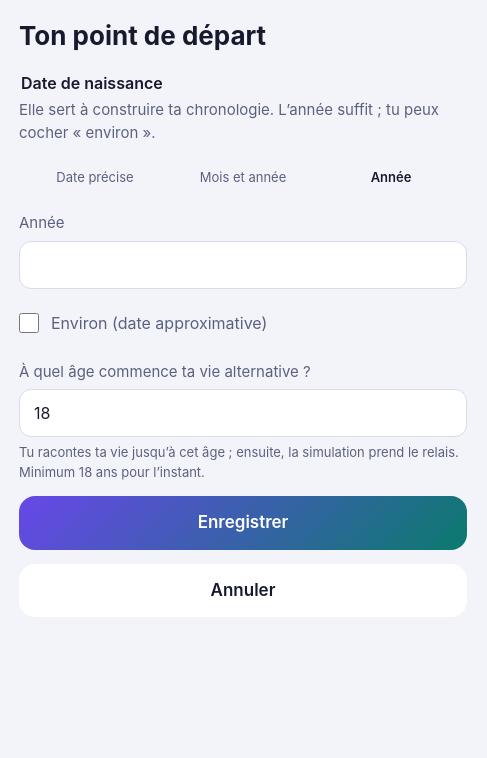
dossier de vie : parcours dans l’interface › accepte « je ne sais pas » et « je préfère ne pas répondre »
Type "2000" into the field labelled "Année". click: (243, 264)
box: [19,240,467,288]
Replace the text in the field labelled "À quel âge commence" with "20". click: (243, 413)
box: [19,389,467,437]
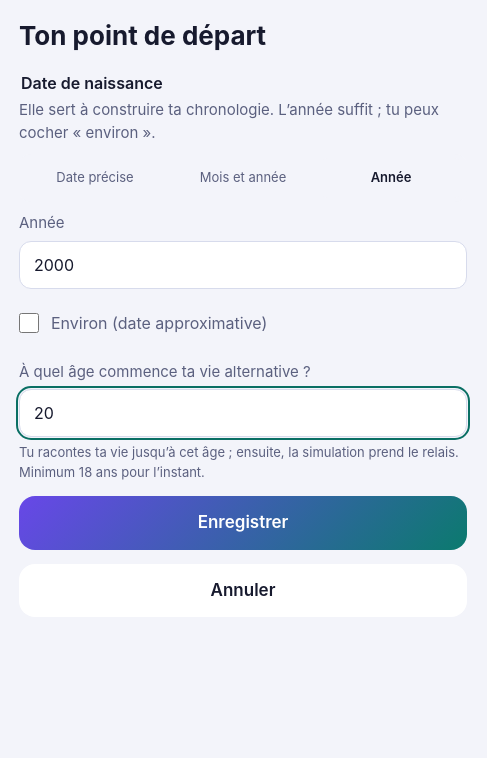
Click the button "Enregistrer". click: (243, 523)
box: [19,496,467,550]
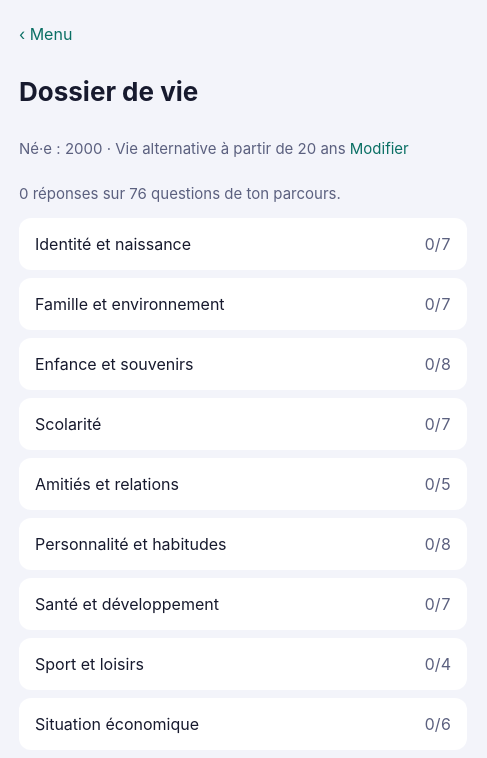
Click the button "Identité et naissance 0/7". click: (113, 244)
box: [19,218,467,270]
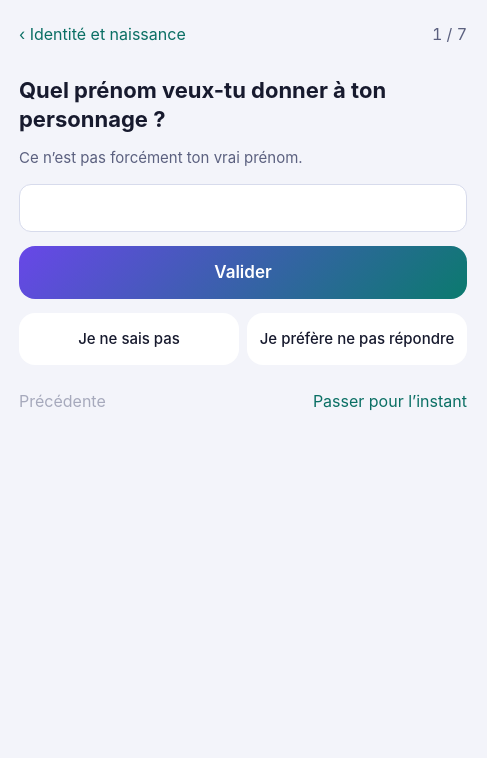
Click the button "Je préfère ne pas répondre". click: (357, 339)
box: [247,313,467,365]
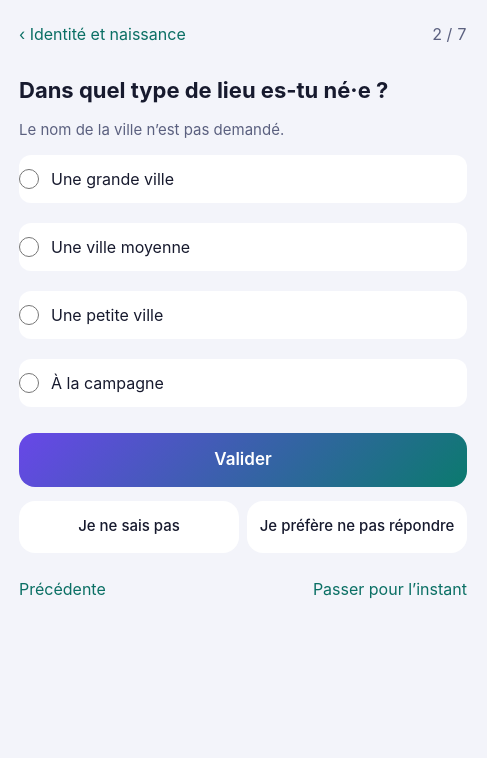
Click the button "Je ne sais pas". click: (129, 527)
box: [19,501,239,553]
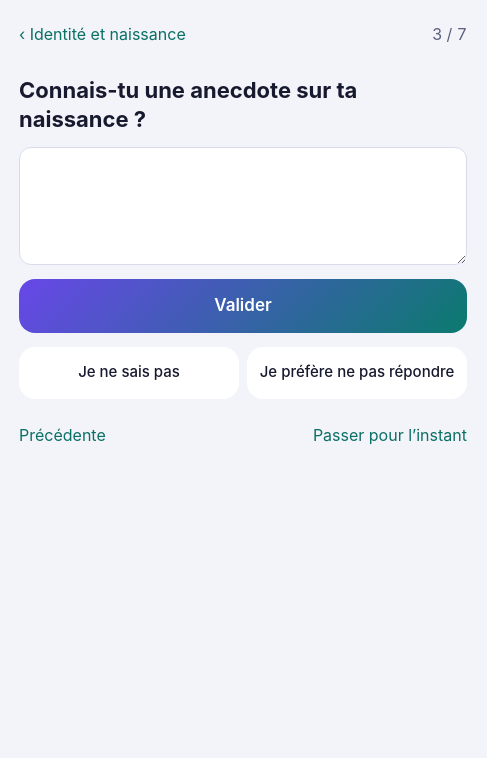
Click the button "‹ Identité et naissance". click: (102, 34)
box: [19,12,186,56]
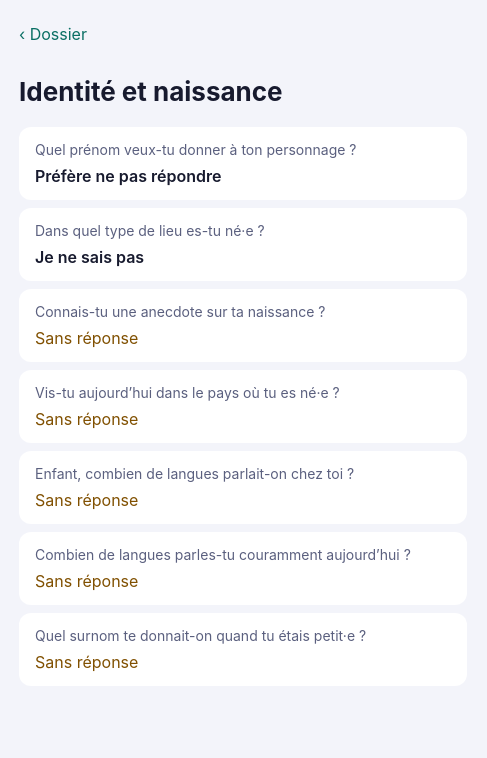
Expected: the 2nd button is shown, [19,127,467,200]
Expected: the button "Dans quel type de lieu es-tu né·e ? Je ne sais pas" is shown, [19,208,467,281]
